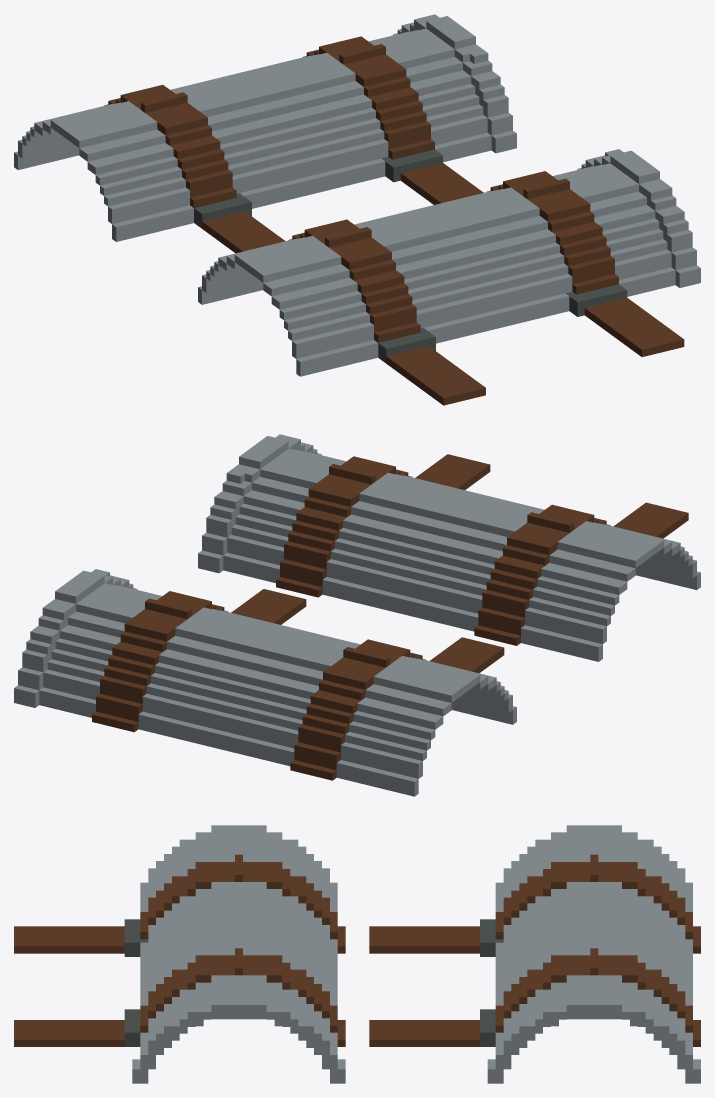
File: ch_armguard_metal_sheets_bracer.glb
3 renders of one model, top to bottom at view 1: azimuth 30°, elevation 25°; view 2: azimuth 150°, elevation 25°; view 3: azimuth 270°, elevation 25°, orthographic. The views are drawn at different scales.
Parts seen in each view (by area): view 1: ch_armguard_metal_sheets_bracer:compound; view 2: ch_armguard_metal_sheets_bracer:compound; view 3: ch_armguard_metal_sheets_bracer:compound.
Boxes of the visible parts, bbox=[...] form: ch_armguard_metal_sheets_bracer:compound: bbox=[14, 14, 700, 405]; ch_armguard_metal_sheets_bracer:compound: bbox=[14, 434, 700, 796]; ch_armguard_metal_sheets_bracer:compound: bbox=[14, 825, 700, 1083].
Size of the model in its own units: 0.224 by 0.044 by 0.348.
